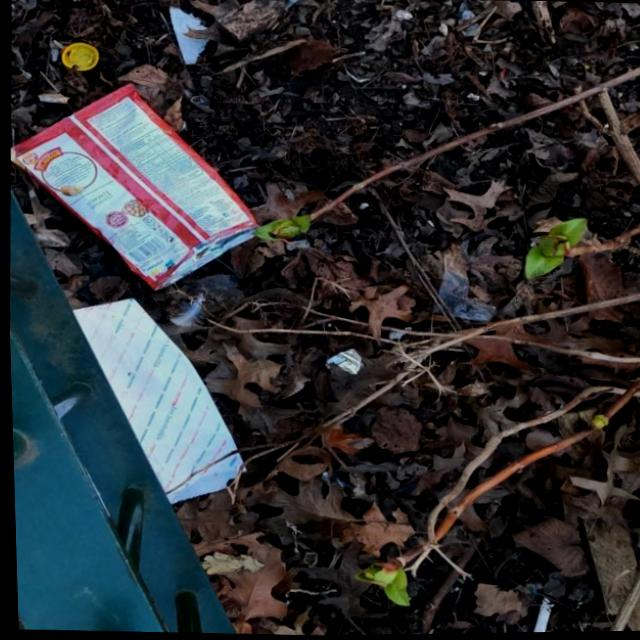Plastic: (3, 69, 269, 297)
